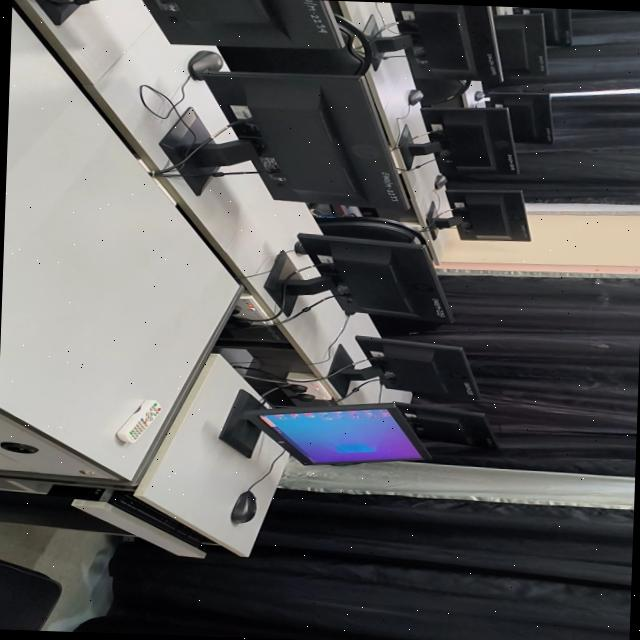Chair: (217, 44, 358, 74), (314, 215, 420, 243), (413, 77, 469, 104)
Keyboard: (106, 490, 212, 547)
Monitor: (201, 71, 407, 210), (281, 232, 452, 322), (221, 390, 427, 464), (141, 0, 341, 49), (336, 335, 477, 400), (390, 2, 500, 84), (421, 106, 517, 174), (426, 188, 530, 240), (486, 91, 551, 144), (493, 14, 545, 78), (519, 7, 571, 46)
Mouse: (289, 428, 328, 453), (187, 50, 221, 78), (230, 490, 255, 524), (375, 421, 409, 445), (407, 89, 422, 105), (434, 174, 446, 189), (290, 412, 312, 420), (474, 91, 484, 101)
